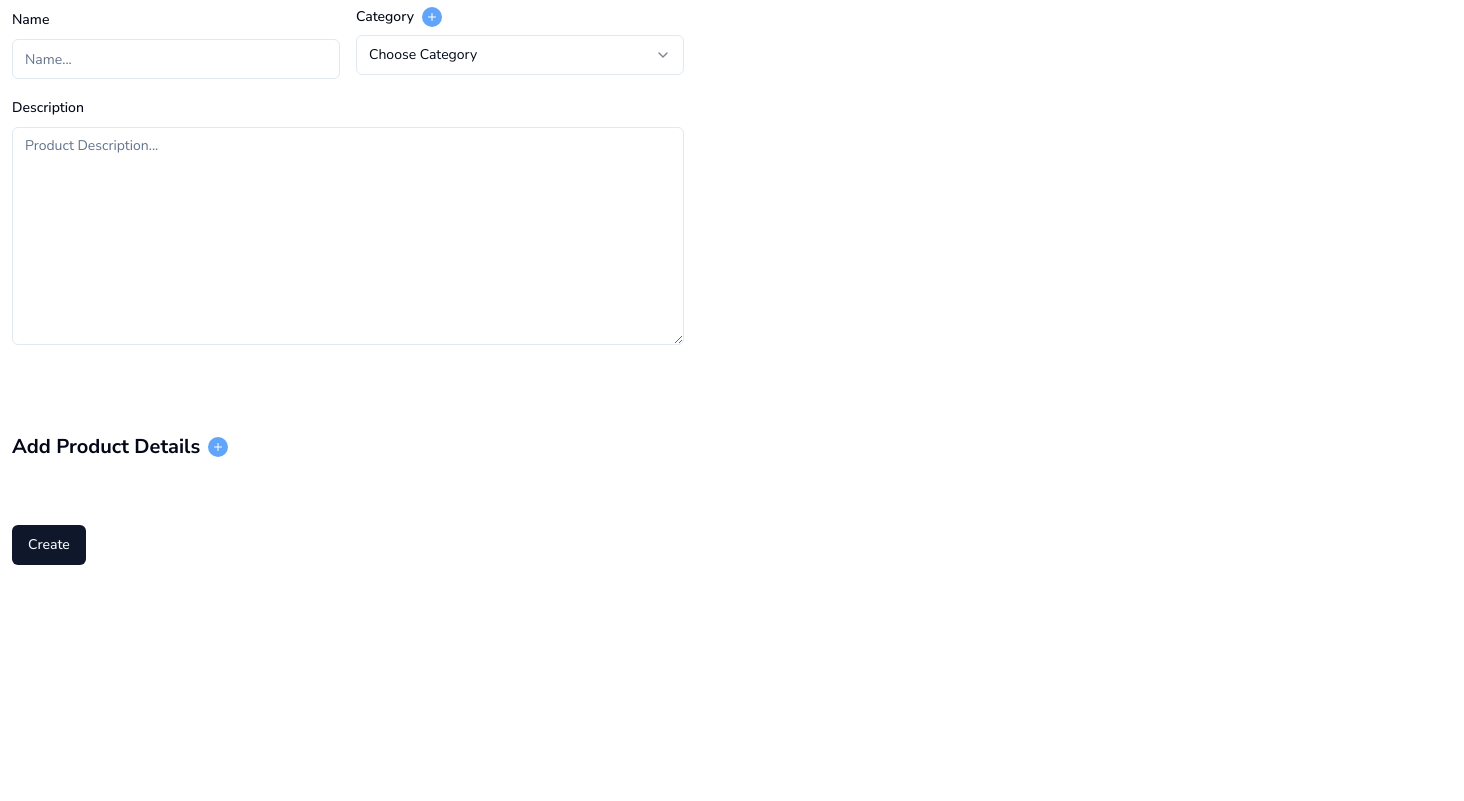
it: Add and update product form for sellers › Adds product items on button click
Click the button with test id "add-product-item" at (218, 447), box [208, 437, 228, 457]
(page scrolled)
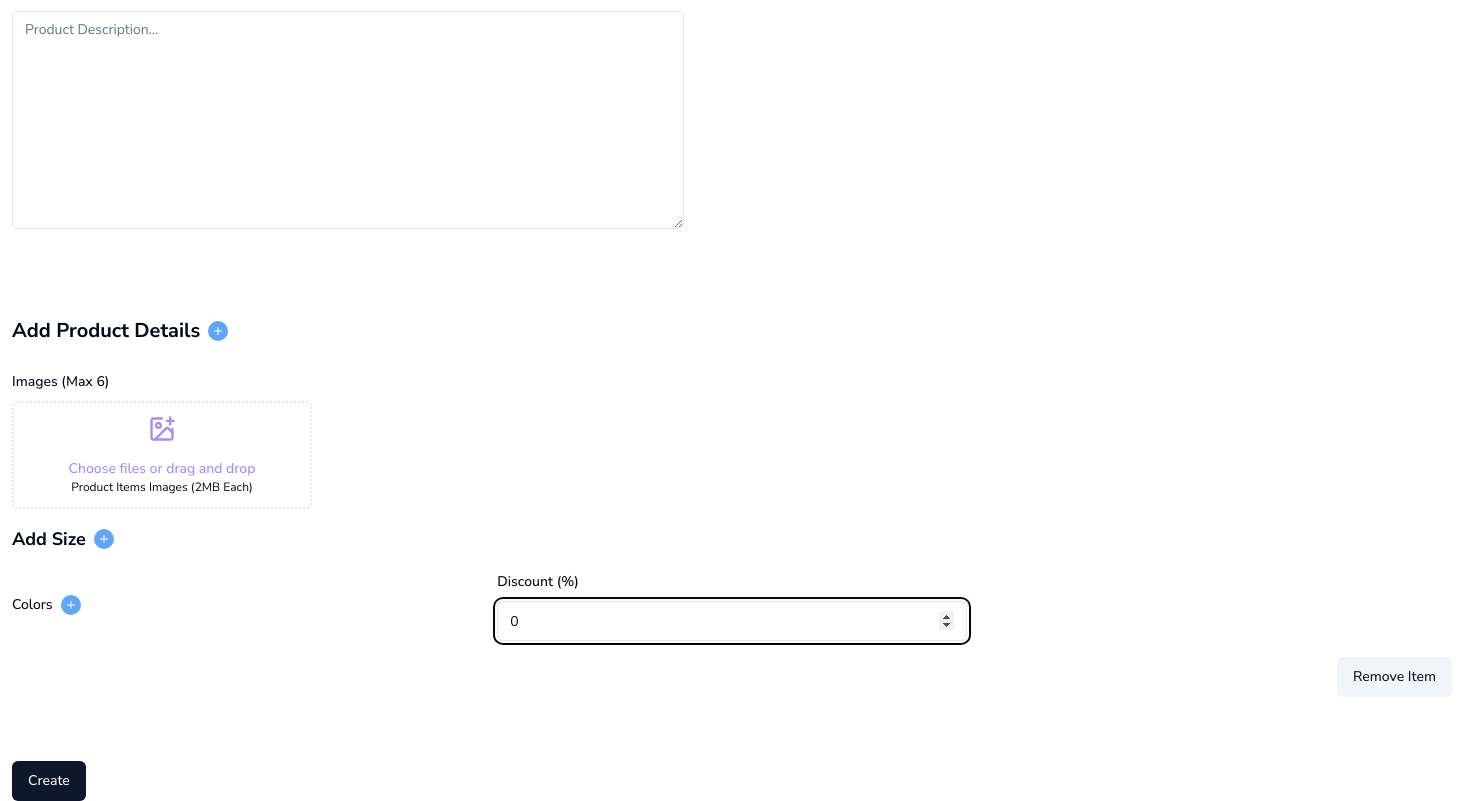
Expected: the element with test id "product-item-form" is shown, [12, 369, 1452, 697]
